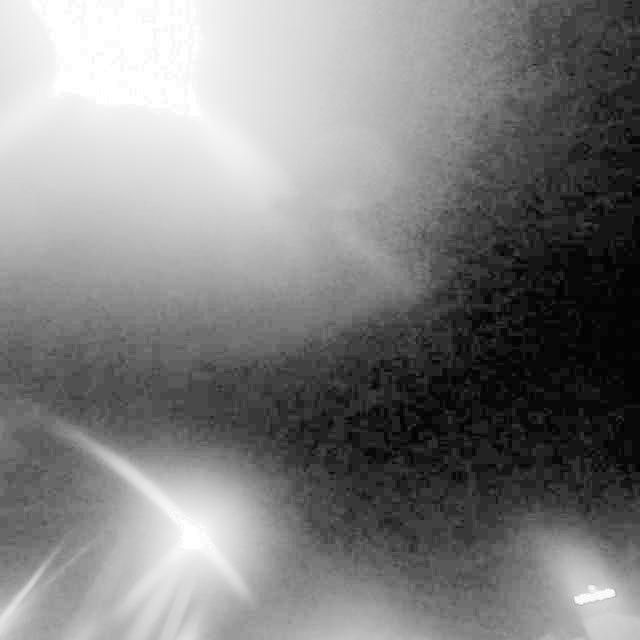Light: (46, 8, 208, 125), (164, 510, 219, 563)
